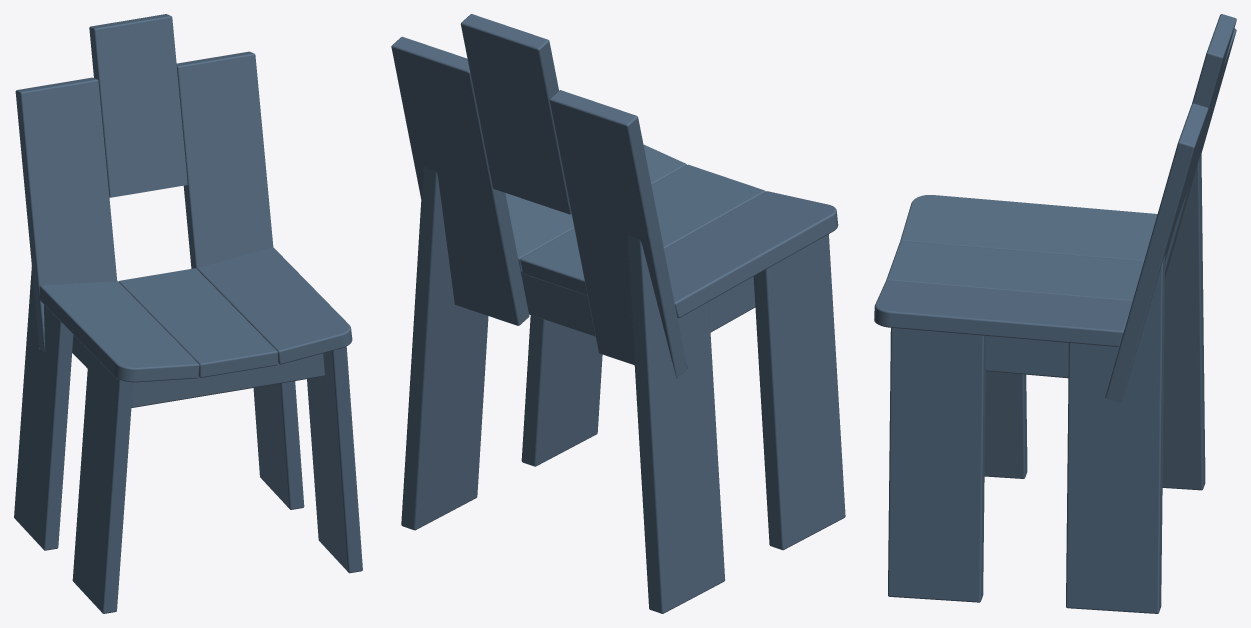
File: bluelaq.glb
3 renders of one model, left to right at view 1: azimuth 30°, elevation 25°; view 2: azimuth 150°, elevation 25°; view 3: azimuth 270°, elevation 25°, orthographic. The views are drawn at different scales.
Parts seen in each view (by area): view 1: Brep.090, Brep.092, Brep.091, Brep.094, Brep.093, Brep.136, Brep.089, Brep.100, Brep.088, Brep.095, Brep.096; view 2: Brep.093, Brep.094, Brep.095, Brep.090, Brep.092, Brep.091, Brep.089, Brep.088, Brep.100, Brep.136, Brep.099, Brep.098; view 3: Brep.095, Brep.088, Brep.089, Brep.136, Brep.093, Brep.100, Brep.092, Brep.094, Brep.097, Brep.091, Brep.090.
Part boxes in pixels (<box>): Brep.090: <box>15,77,117,351</box>; Brep.092: <box>176,51,273,268</box>; Brep.091: <box>89,14,187,197</box>; Brep.094: <box>72,351,133,613</box>; Brep.093: <box>14,266,73,550</box>; Brep.136: <box>197,247,352,364</box>; Brep.089: <box>39,281,199,382</box>; Brep.100: <box>118,268,277,377</box>; Brep.088: <box>307,346,362,573</box>; Brep.095: <box>253,381,304,509</box>; Brep.096: <box>131,353,324,407</box>; Brep.093: <box>627,235,725,613</box>; Brep.094: <box>753,234,845,550</box>; Brep.095: <box>401,166,488,530</box>; Brep.090: <box>549,90,687,378</box>; Brep.092: <box>391,36,529,325</box>; Brep.091: <box>460,14,571,214</box>; Brep.089: <box>664,191,838,318</box>; Brep.088: <box>521,315,602,466</box>; Brep.100: <box>520,164,765,295</box>; Brep.136: <box>505,144,686,272</box>; Brep.099: <box>521,271,595,336</box>; Brep.098: <box>708,276,755,332</box>; Brep.095: <box>1066,254,1165,613</box>; Brep.088: <box>888,328,985,602</box>; Brep.089: <box>900,195,1157,261</box>; Brep.136: <box>874,280,1132,346</box>; Brep.093: <box>1162,153,1205,490</box>; Brep.100: <box>886,241,1143,300</box>; Brep.092: <box>1105,103,1208,402</box>; Brep.094: <box>984,371,1027,478</box>; Brep.097: <box>985,336,1068,378</box>; Brep.091: <box>1176,14,1236,221</box>; Brep.090: <box>1165,28,1236,278</box>.
Size of the model in its own units: 0.5385 by 0.8791 by 0.5575.
